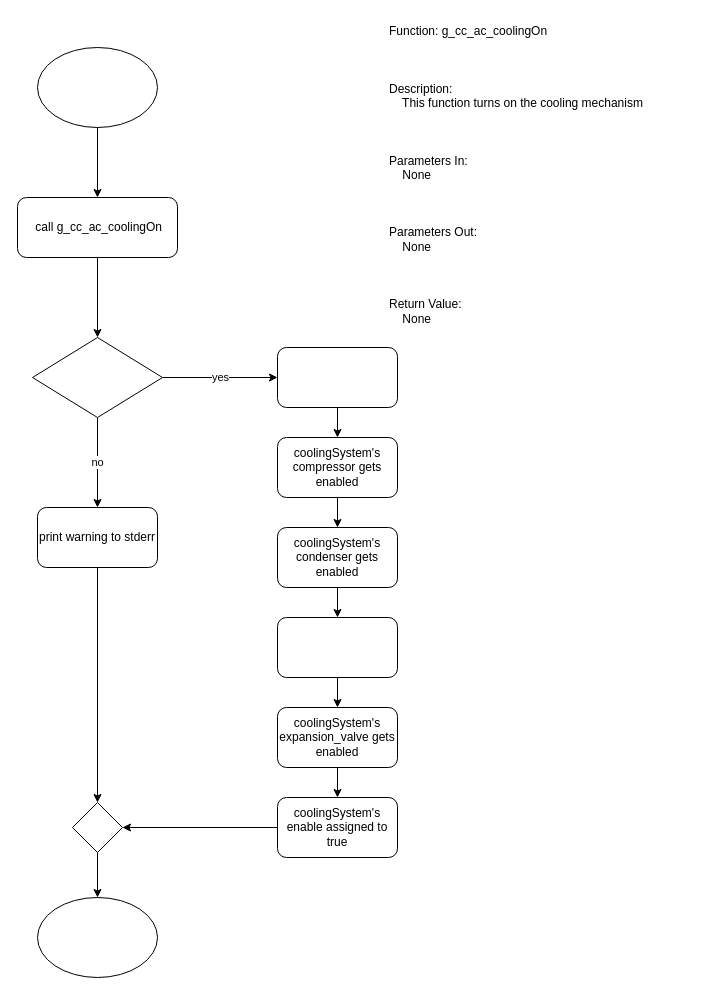
This 705x995 diagram has some shape labels left out. The shapes that lost their labels are listed below. From the top down, each one's centre as x and y in pixels, then its label:
pixel 97 377: if AC_ON_OFF true
pixel 337 377: set pwmData input 6 to AC_ON
pixel 337 647: coolingSystem's evaporator gets enabled
